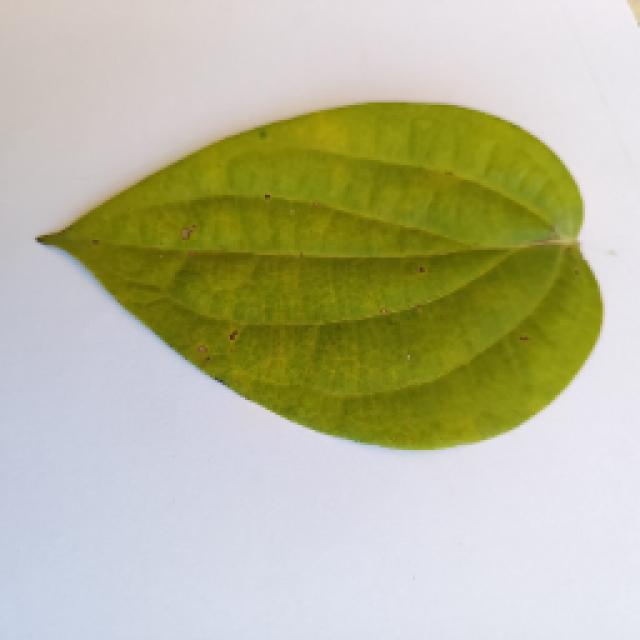slow-decline: (25, 100, 603, 452)
